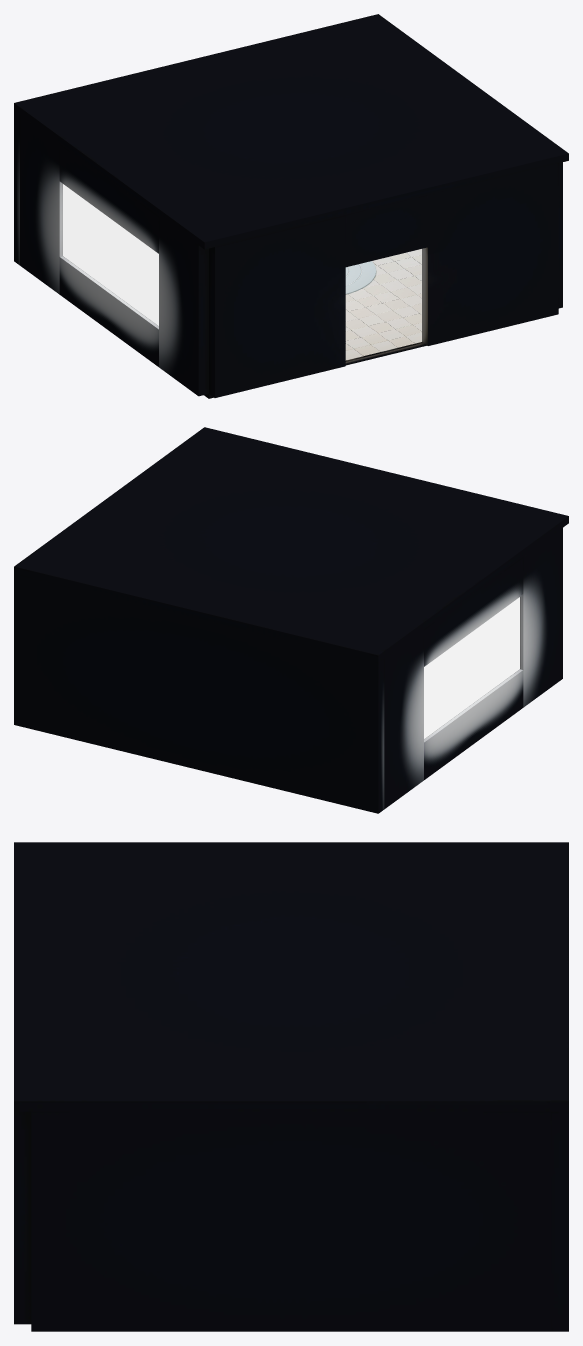
The model's file is room_ocean.glb.
3 renders of one model, top to bottom at view 1: azimuth 30°, elevation 25°; view 2: azimuth 150°, elevation 25°; view 3: azimuth 270°, elevation 25°, orthographic. The views are drawn at different scales.
Visible parts, largest first — view 1: baked_ceiling, baked_walls, window_glass, baked_floor, baked_furn; view 2: baked_walls, baked_ceiling, window_glass; view 3: baked_ceiling, baked_walls.
Part boxes in pixels (<box>): baked_ceiling: <box>14,14,568,249</box>; baked_walls: <box>14,110,562,397</box>; window_glass: <box>63,184,158,325</box>; baked_floor: <box>204,249,426,398</box>; baked_furn: <box>345,261,375,294</box>; baked_walls: <box>14,528,562,813</box>; baked_ceiling: <box>14,427,568,662</box>; window_glass: <box>424,597,519,738</box>; baked_ceiling: <box>14,842,568,1111</box>; baked_walls: <box>14,1111,568,1331</box>.
Bounding box in the file's own units: 10.6 × 4.54 × 9.6.
Materials: 6 (4 with a texture image).
